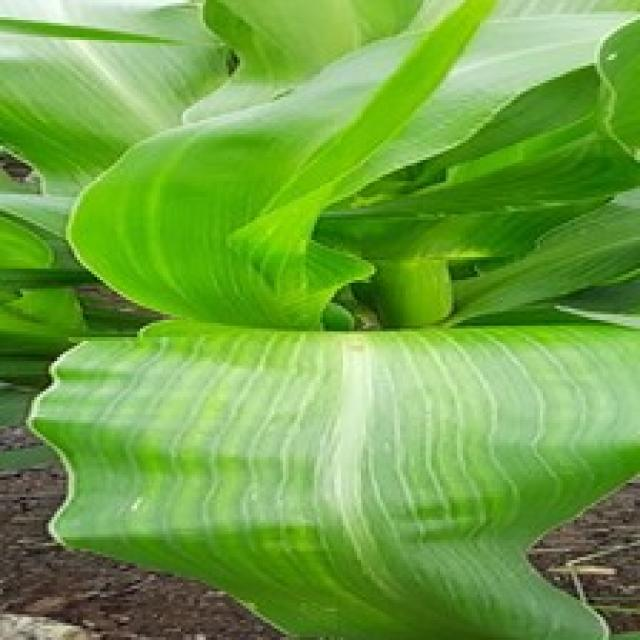Corn: (0, 0, 637, 637), (23, 314, 637, 637), (63, 0, 500, 329), (0, 0, 231, 197)
